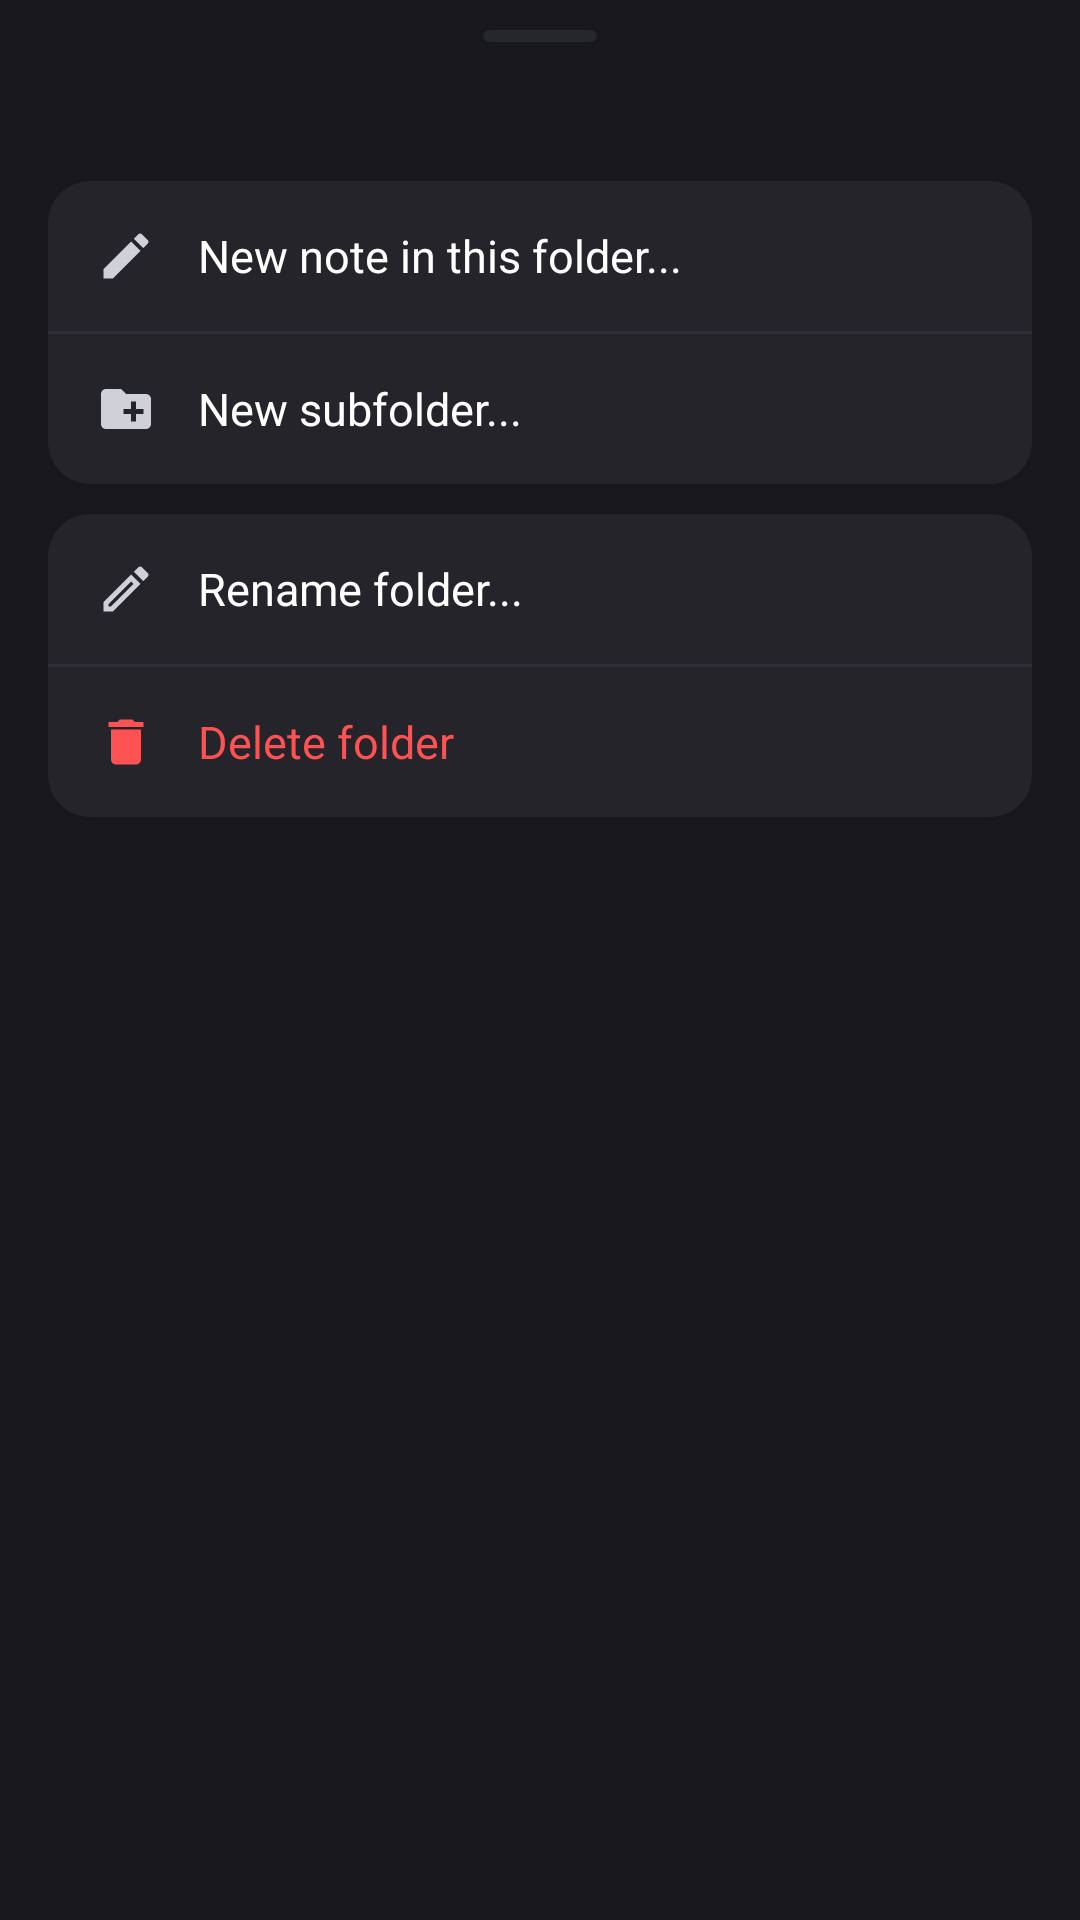

Where to tap for icons on this 1080px x 1920px app screen, as (x,y):
delete bin: (126,742)
edit rename: (126,589)
